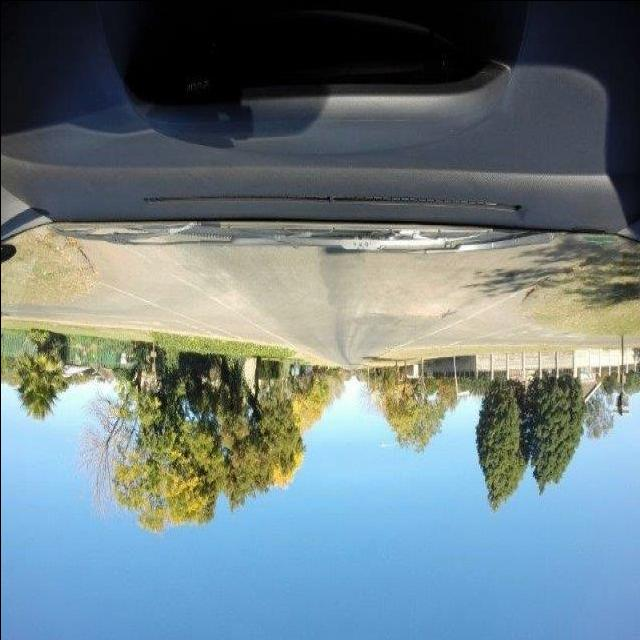lubang: (412, 305, 453, 323)
